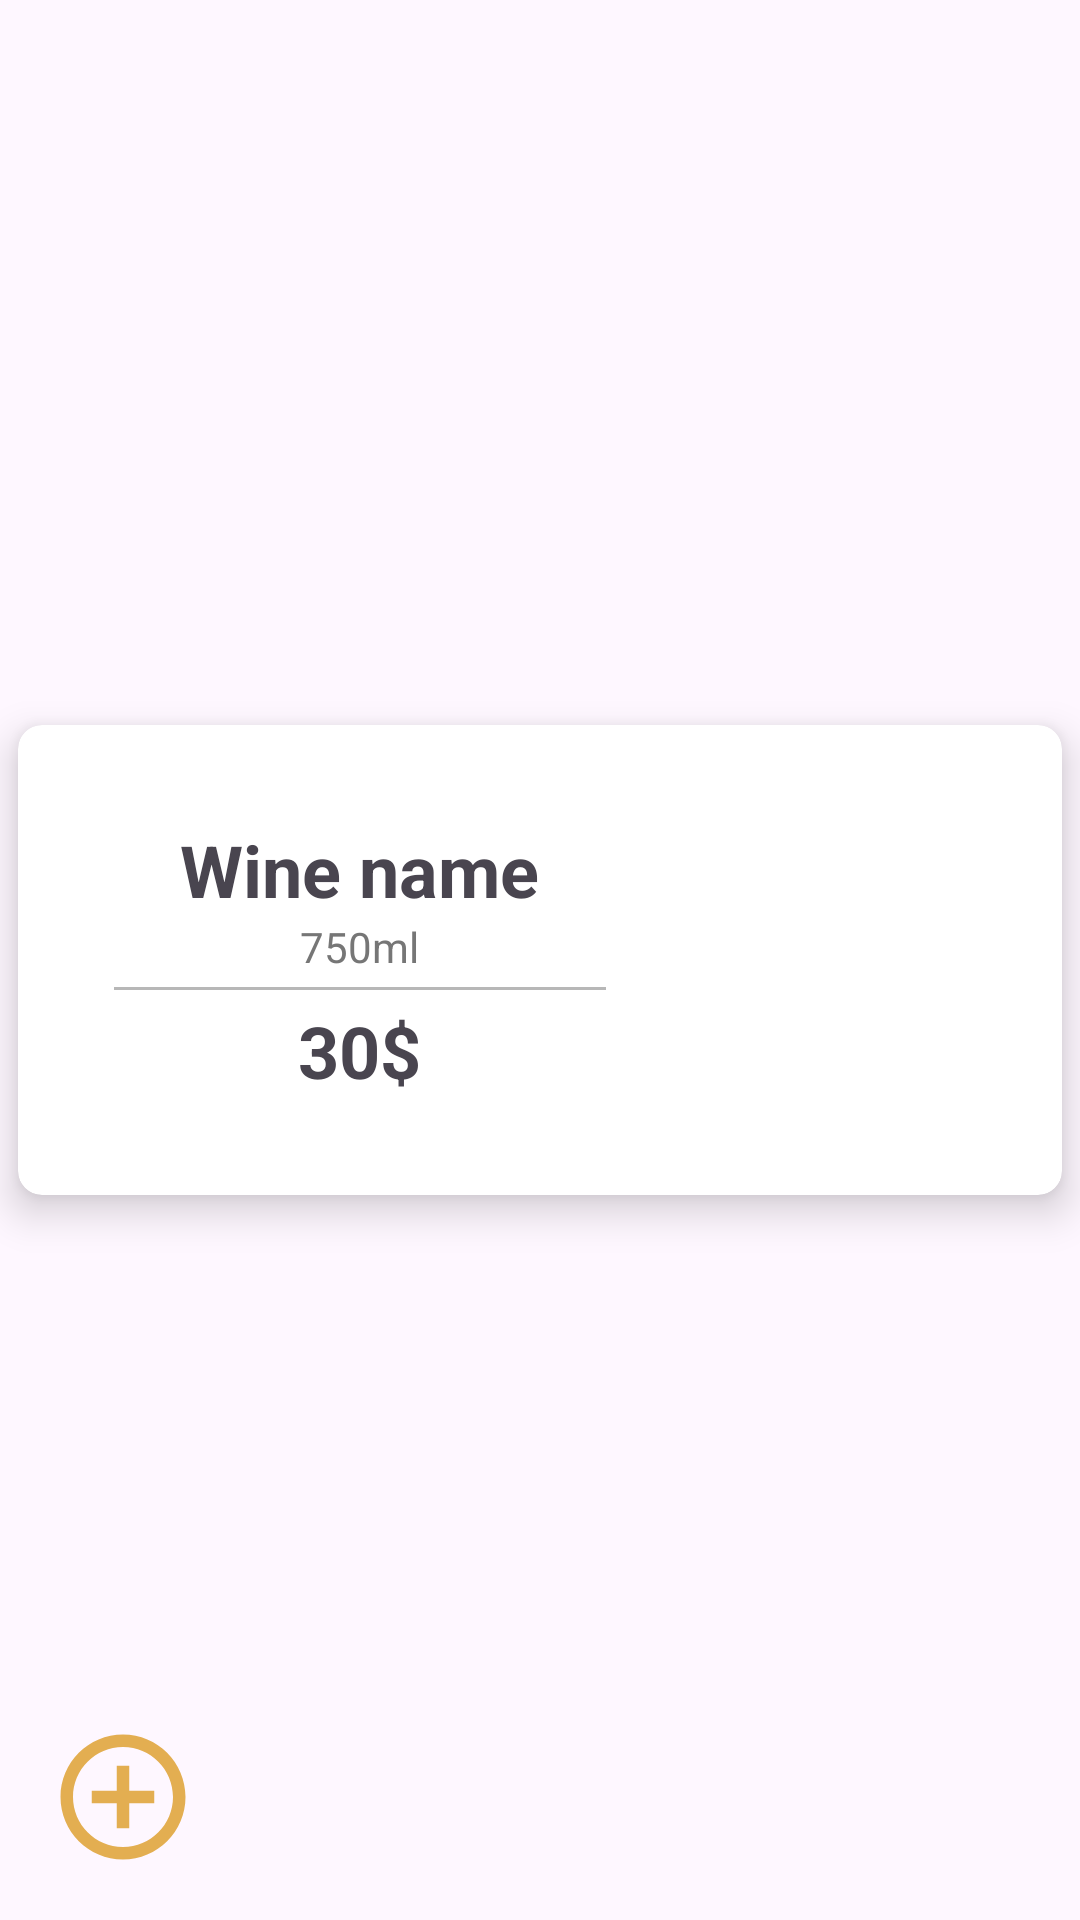

Locate icon controls on the screen. Image size 1080px×1920px, boxes as (x1, y1, x2, y2).
add circle: (60, 1734, 186, 1860)
